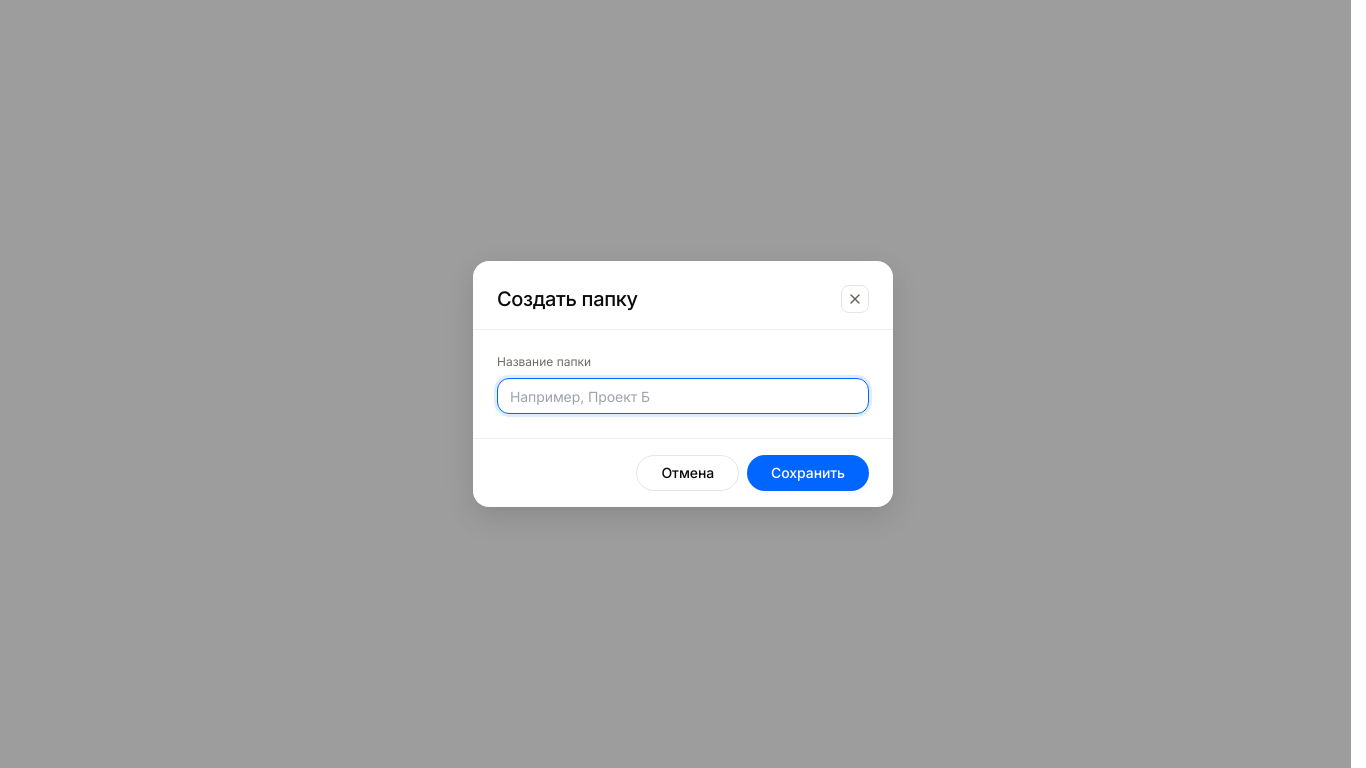
Test: create checks the name before sending it: empty, then taken ignoring case
Click the button "Сохранить": click(808, 473) [747,455,869,491]
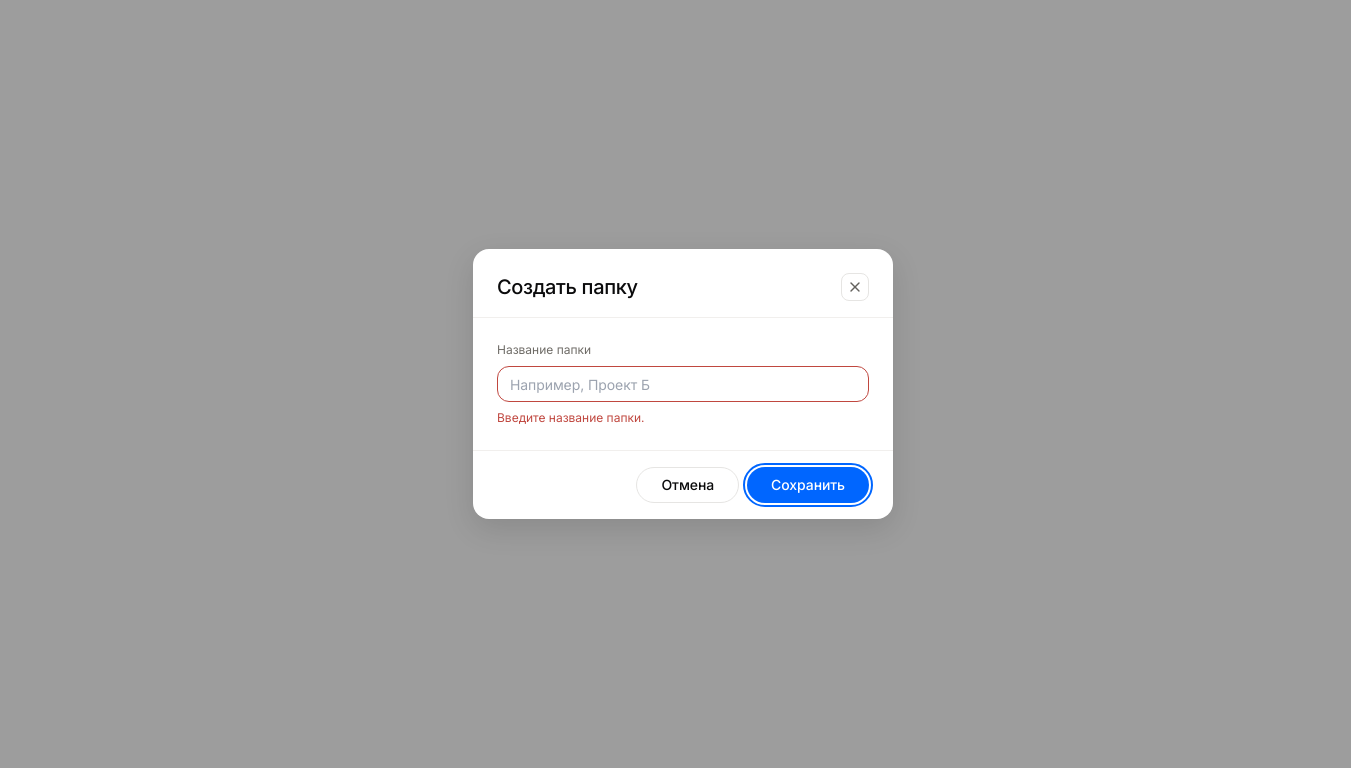
Check: the message reads "Введите название папки.", box [497,410,644,425]
In the field with placeholder "Например, Проект Б": (683, 384) [497,366,869,402], type "  основные "
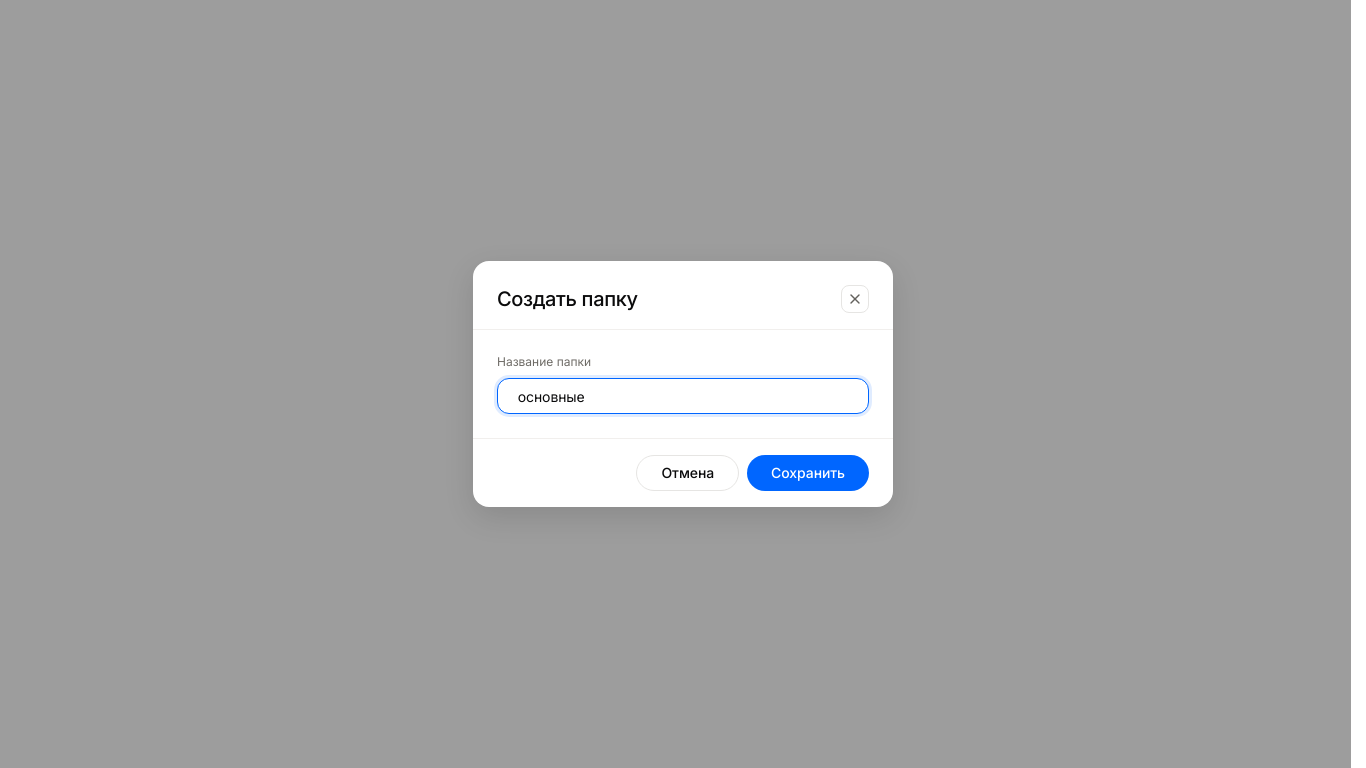
Press Enter
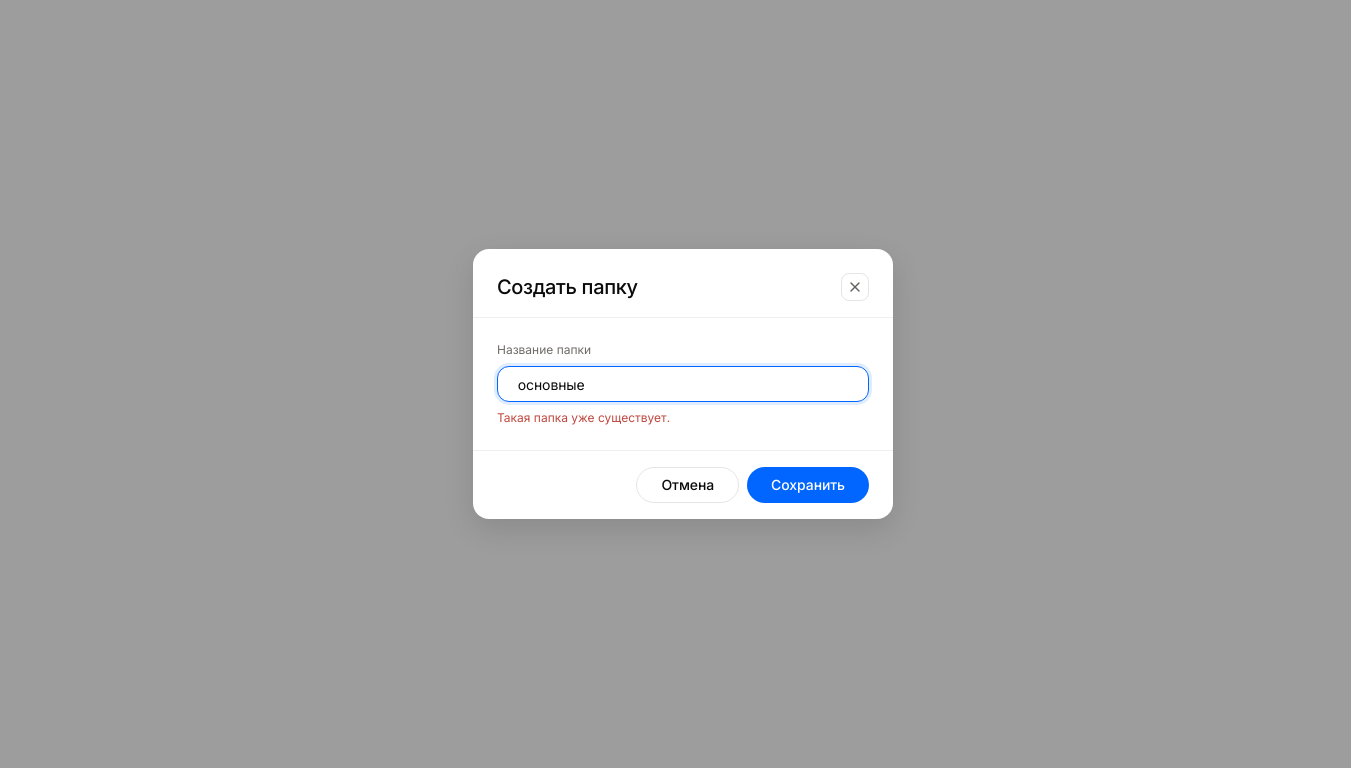
Check: the message reads "Такая папка уже существует.", box [497,410,670,425]
